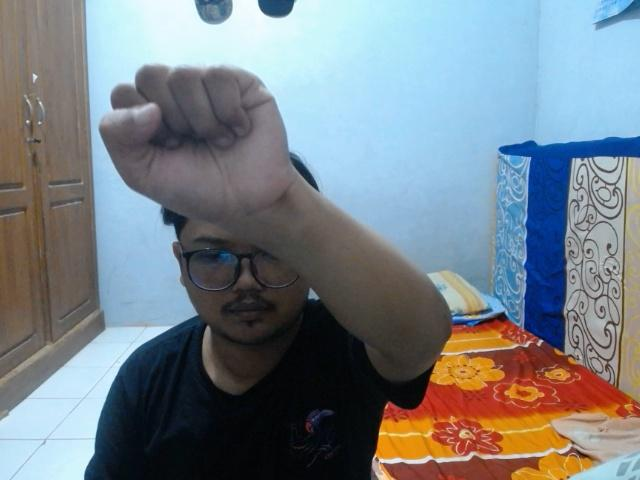Grab: (94, 59, 298, 231)
